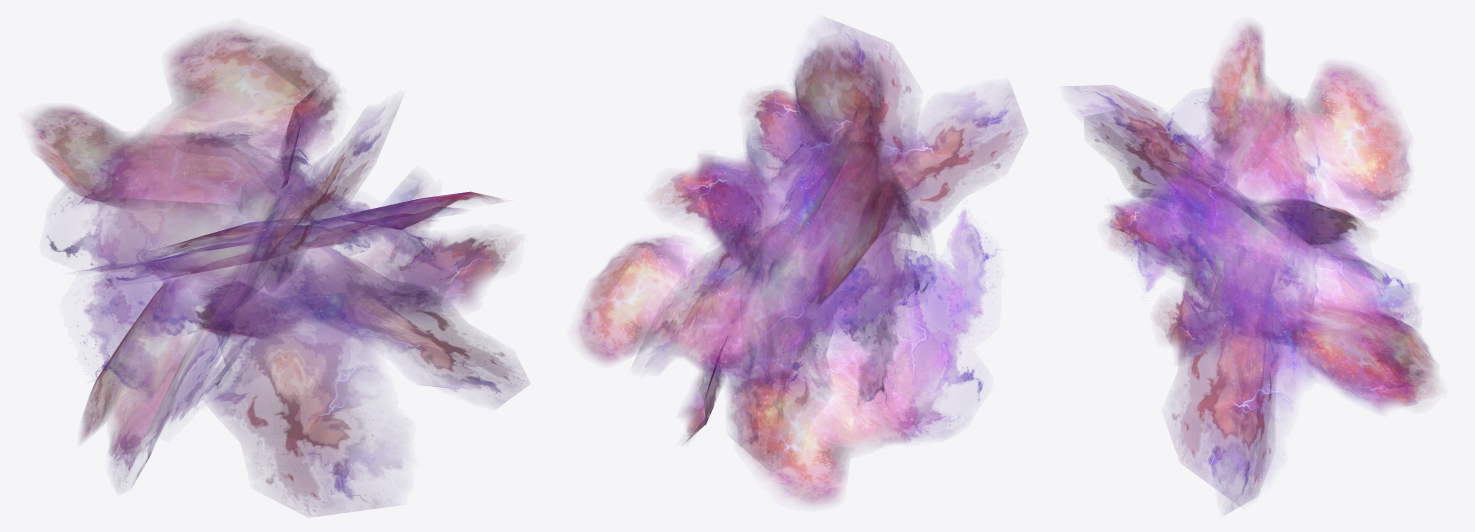
The model's file is galaxy.glb.
3 renders of one model, left to right at view 1: azimuth 30°, elevation 25°; view 2: azimuth 150°, elevation 25°; view 3: azimuth 270°, elevation 25°, orthographic. The views are drawn at different scales.
Visible parts, largest first — view 1: galaxy_01; view 2: galaxy_01; view 3: galaxy_01.
Part boxes in pixels (<box>): galaxy_01: <box>30,28,528,516</box>; galaxy_01: <box>577,21,1026,504</box>; galaxy_01: <box>1068,24,1436,512</box>.
Bounding box in the file's own units: 1.19 × 1.5 × 1.23.
1 material, 1 textured.
